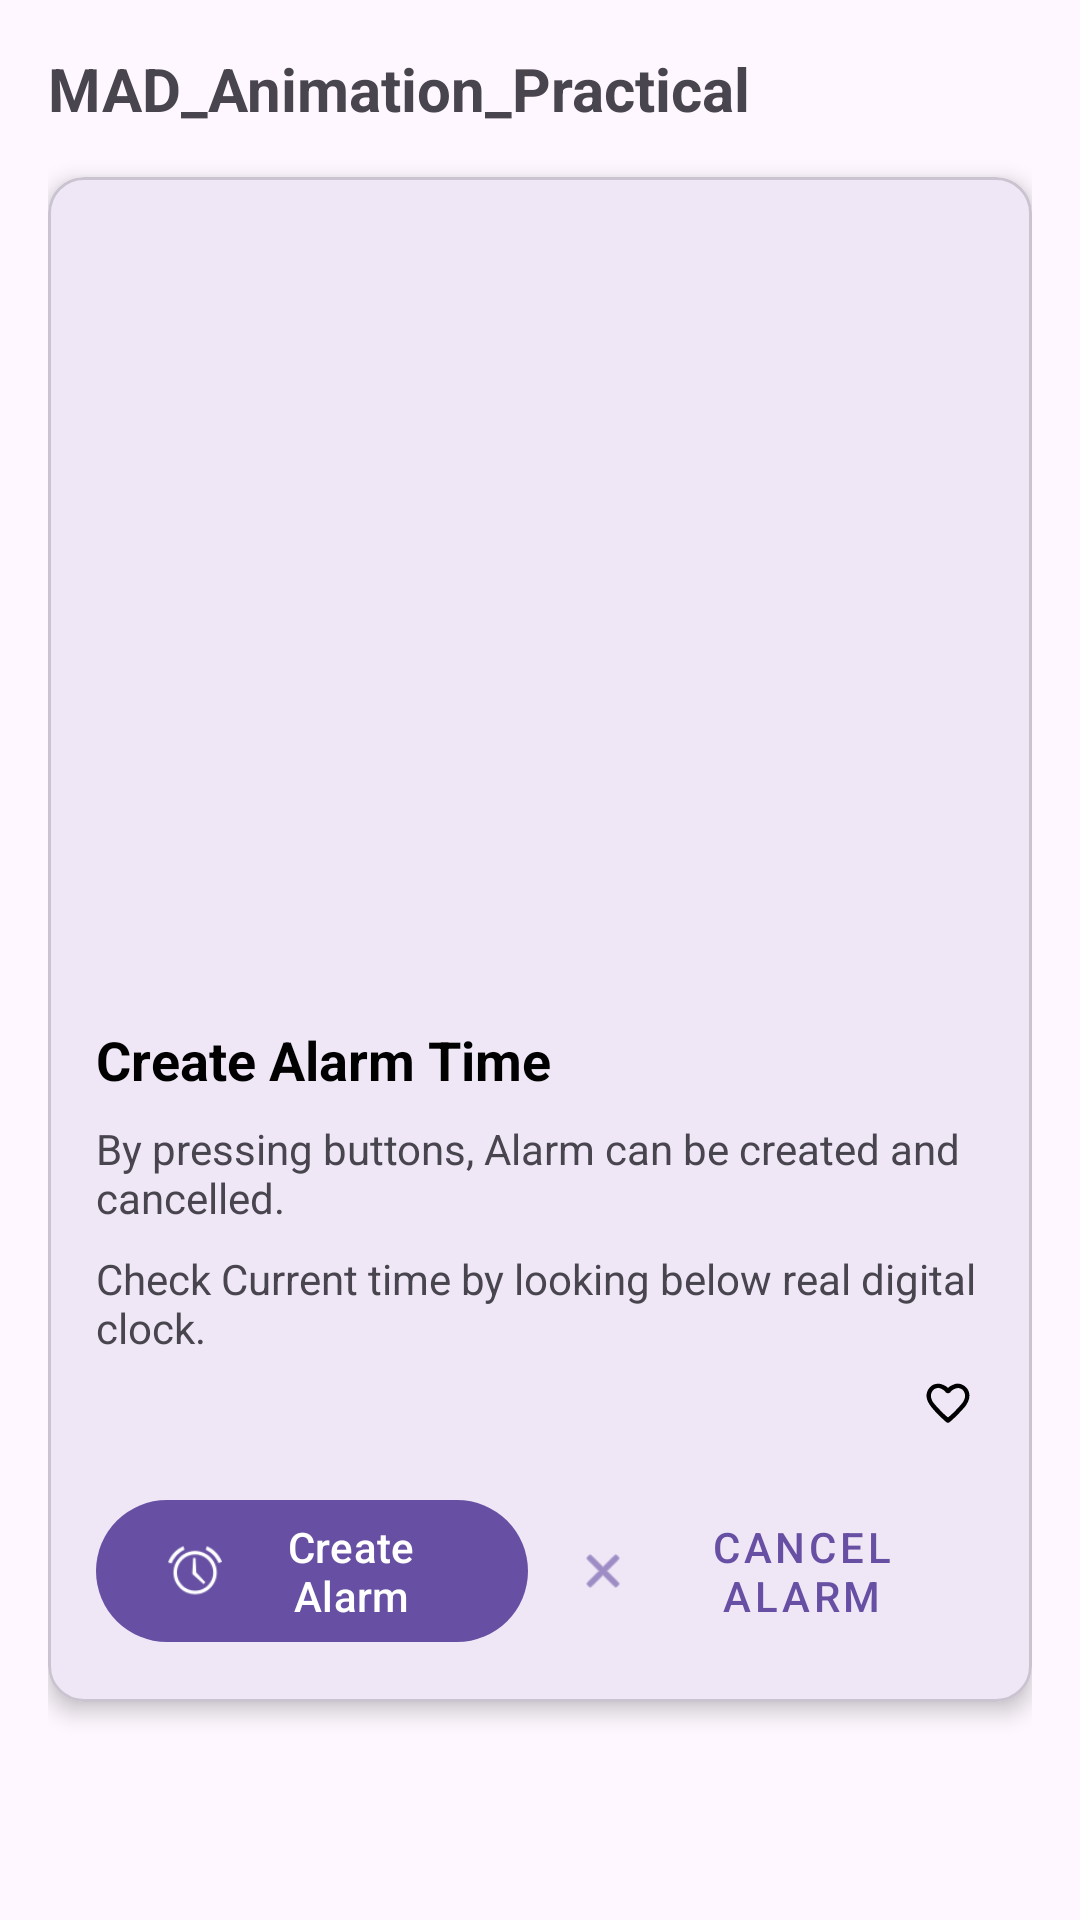

Named icons in this screenshot (1080×1920) and their centers, (x=x, y=y):
heart: (x=948, y=1403)
